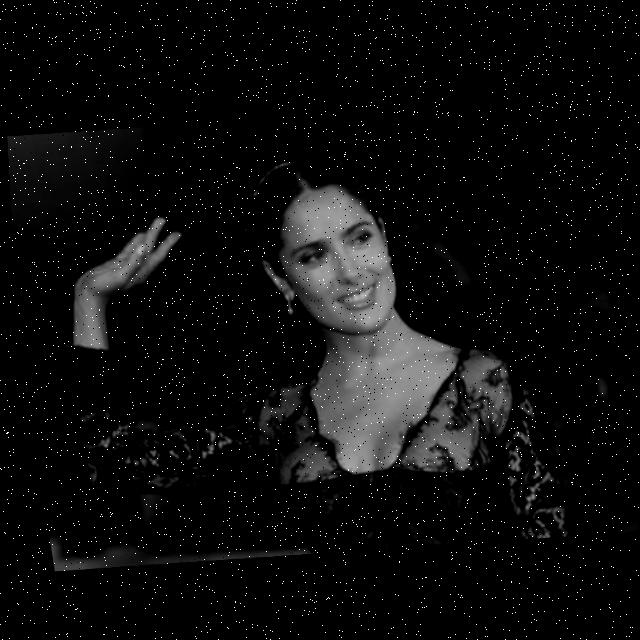face: (244, 174, 413, 341)
